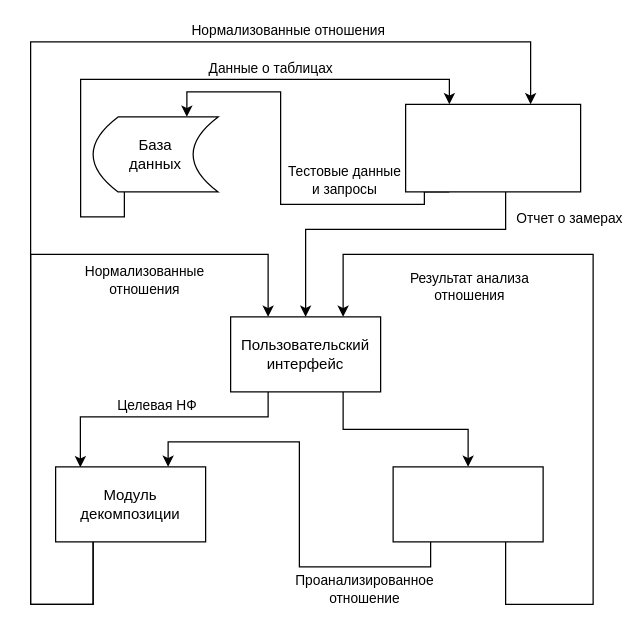
The diagram is 644 pixels wide and 636 high, and some of its shapes have lost their labels. The shapes that lost their labels are listed below. From the top down, each one's box as (x1, y1, x2, y2) in pixels, then its label:
(404, 103, 581, 192): Модуль замеров для нормализованных отношений
(392, 466, 543, 542): Модуль анализа нормальных форм
